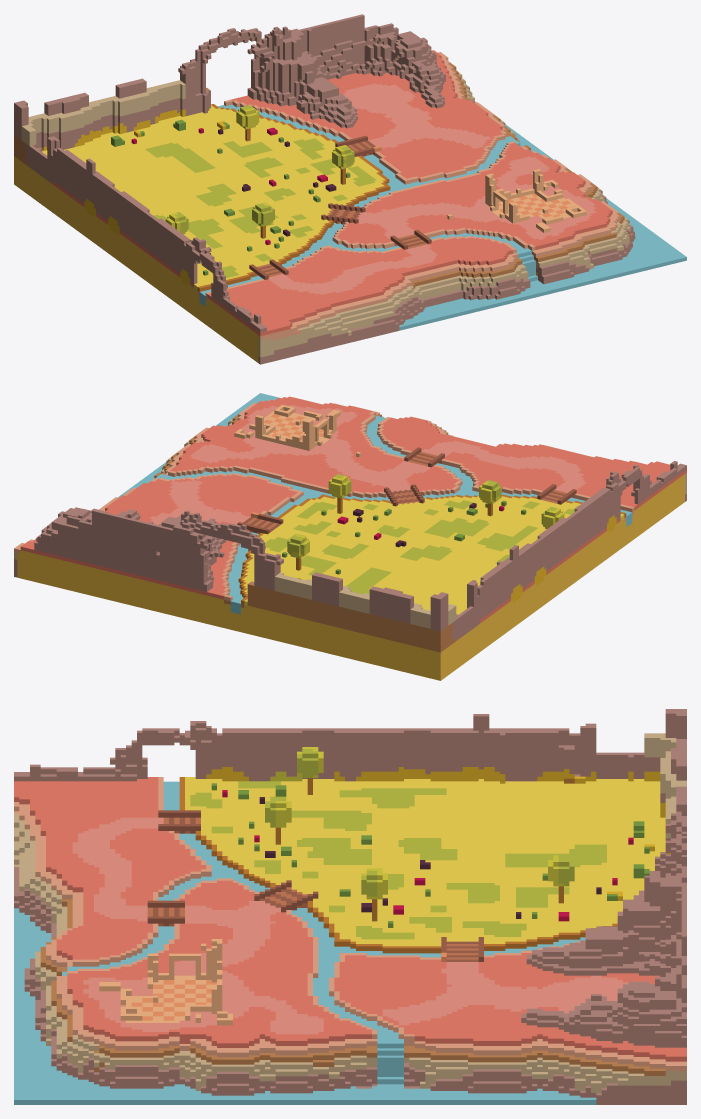
Rendered from mainland mk2.obj.
3 renders of one model, top to bottom at view 1: azimuth 30°, elevation 25°; view 2: azimuth 150°, elevation 25°; view 3: azimuth 270°, elevation 25°, orthographic. The views are drawn at different scales.
Size of the model in its own units: 126 by 29 by 126.
